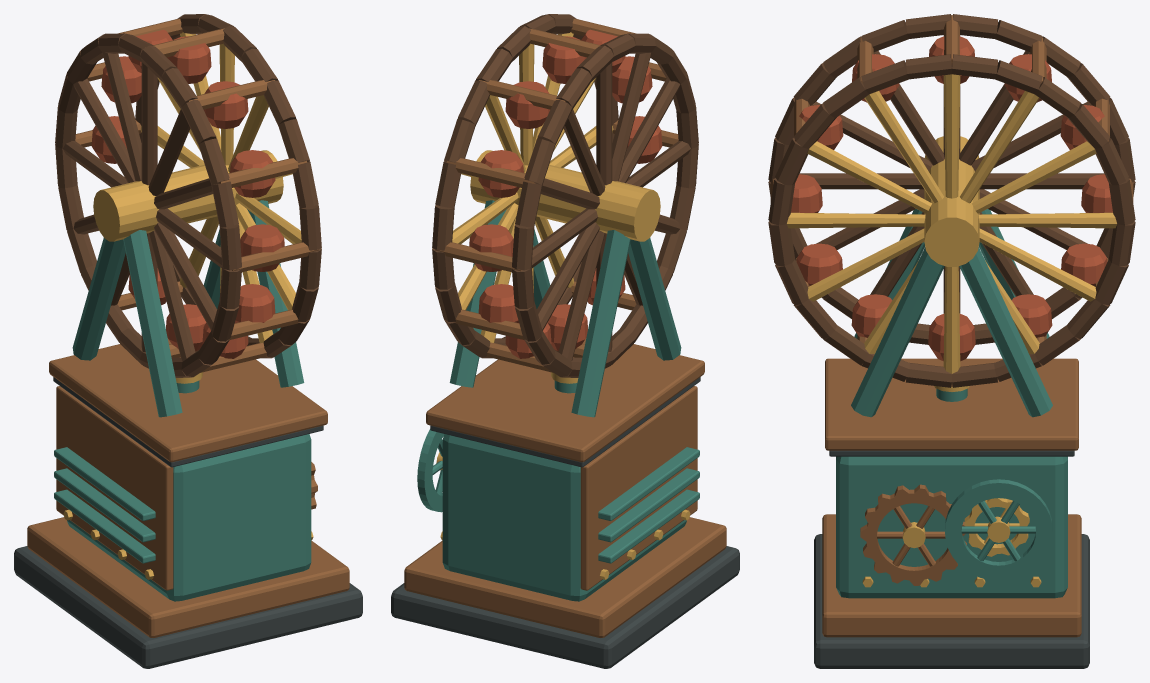
Rendered from room-mid.glb.
3 views of the same model, side by side, from view 1: azimuth 30°, elevation 25°; view 2: azimuth 150°, elevation 25°; view 3: azimuth 270°, elevation 25° (orthographic). The views are drawn at different scales.
Visible parts, largest first — view 1: Sluice · suspended water-lift wheel · timber, Oil-tight casting, Bevel casting lid, Bronze mounting bed, Machine sill, Sluice · suspended water-lift wheel · brass, Sluice · suspended water-lift wheel · patina, Sluice · suspended water-lift wheel · terracotta, Rear cast plate, Sluice · suspended water-lift wheel · bronze, Rear heat fin, Rear heat fin.001 (+2 smaller); view 2: Sluice · suspended water-lift wheel · timber, Oil-tight casting, Bevel casting lid, Bronze mounting bed, Machine sill, Sluice · suspended water-lift wheel · brass, Sluice · suspended water-lift wheel · patina, Sluice · suspended water-lift wheel · terracotta, Rear cast plate, Sluice · suspended water-lift wheel · bronze, Rear heat fin, Rear heat fin.001 (+3 smaller); view 3: Sluice · suspended water-lift wheel · timber, Sluice · suspended water-lift wheel · brass, Oil-tight casting, Bevel casting lid, Bronze mounting bed, Sluice · suspended water-lift wheel · terracotta, Machine sill, Sluice · suspended water-lift wheel · patina, Operator rim open rim, Reduction gear open rim, Sluice · suspended water-lift wheel · bronze, Cover gasket (+1 smaller).
Part boxes in pixels (x1,y1,x2,y2): Sluice · suspended water-lift wheel · timber: (55, 14, 321, 377); Oil-tight casting: (67, 434, 311, 601); Bevel casting lid: (49, 338, 327, 462); Bronze mounting bed: (27, 517, 349, 637); Machine sill: (14, 546, 362, 668); Sluice · suspended water-lift wheel · brass: (93, 32, 301, 342); Sluice · suspended water-lift wheel · patina: (72, 200, 304, 417); Sluice · suspended water-lift wheel · terracotta: (91, 29, 284, 358); Rear cast plate: (56, 386, 173, 590); Sluice · suspended water-lift wheel · bronze: (75, 18, 318, 372); Rear heat fin: (54, 489, 155, 563); Rear heat fin.001: (54, 468, 155, 542); Sluice · suspended water-lift wheel · timber: (432, 14, 698, 377); Oil-tight casting: (442, 434, 686, 601); Bevel casting lid: (426, 338, 704, 462); Bronze mounting bed: (404, 517, 726, 637); Machine sill: (391, 546, 739, 668); Sluice · suspended water-lift wheel · brass: (452, 32, 660, 342); Sluice · suspended water-lift wheel · patina: (449, 200, 681, 417); Sluice · suspended water-lift wheel · terracotta: (469, 29, 662, 358); Rear cast plate: (580, 386, 697, 590); Sluice · suspended water-lift wheel · bronze: (435, 18, 678, 372); Rear heat fin: (598, 489, 699, 563); Rear heat fin.001: (598, 468, 699, 542); Sluice · suspended water-lift wheel · timber: (768, 14, 1135, 387); Sluice · suspended water-lift wheel · brass: (787, 74, 1116, 373); Oil-tight casting: (836, 456, 1067, 598); Bevel casting lid: (825, 358, 1078, 450); Bronze mounting bed: (822, 514, 1081, 637); Sluice · suspended water-lift wheel · terracotta: (791, 36, 1112, 361); Machine sill: (814, 534, 1089, 668); Sluice · suspended water-lift wheel · patina: (851, 209, 1052, 417); Operator rim open rim: (945, 479, 1052, 580); Reduction gear open rim: (860, 484, 966, 585); Sluice · suspended water-lift wheel · bronze: (770, 15, 1133, 386); Cover gasket: (829, 450, 1074, 456).
Size of what is drawn, in the model's own units: 2.1 by 5.11 by 2.93.
